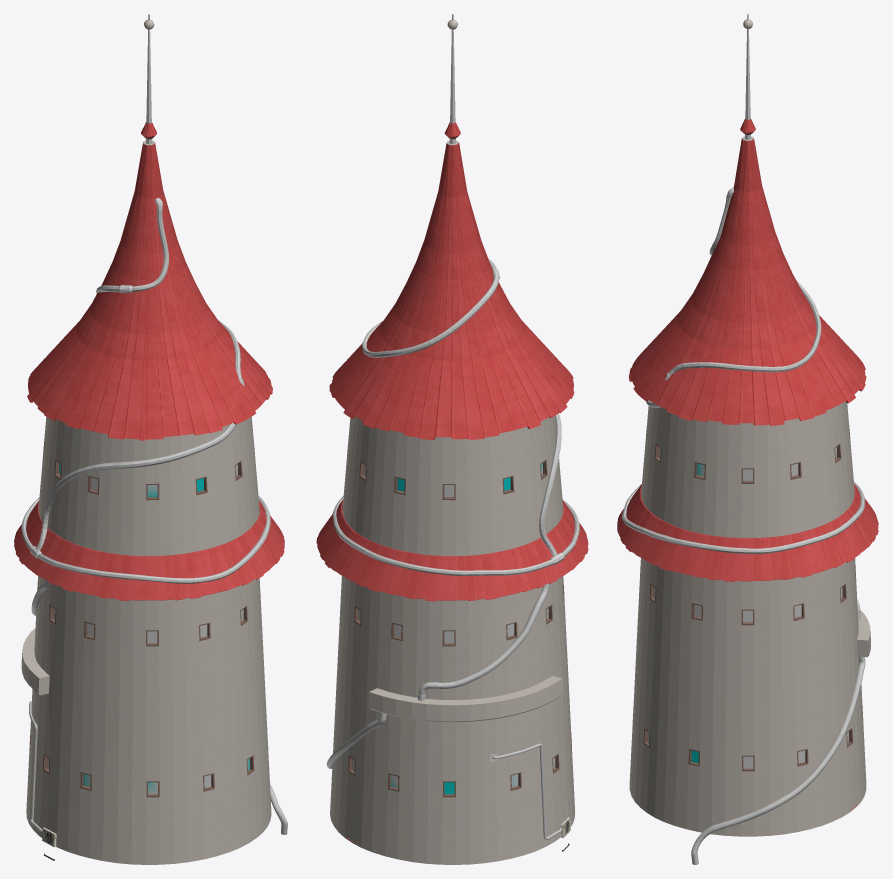
The model's file is SM_ENV_KNVLLG_AreaD_Tower_A_Part03.fbx.
The picture shows the model from 3 angles, left to right: view 1: azimuth 30°, elevation 25°; view 2: azimuth 150°, elevation 25°; view 3: azimuth 270°, elevation 25°; orthographic projection. The views are drawn at different scales.
Visible parts, largest first — view 1: SM_ENV_KNVLLG_AreaD_Tower_A_Part03.mo; view 2: SM_ENV_KNVLLG_AreaD_Tower_A_Part03.mo; view 3: SM_ENV_KNVLLG_AreaD_Tower_A_Part03.mo.
Boxes of the visible parts, <box> form: SM_ENV_KNVLLG_AreaD_Tower_A_Part03.mo: <box>14,14,287,864</box>; SM_ENV_KNVLLG_AreaD_Tower_A_Part03.mo: <box>316,14,588,864</box>; SM_ENV_KNVLLG_AreaD_Tower_A_Part03.mo: <box>617,14,878,864</box>.
Bounding box in the file's own units: 3178 × 10708 × 3180.
